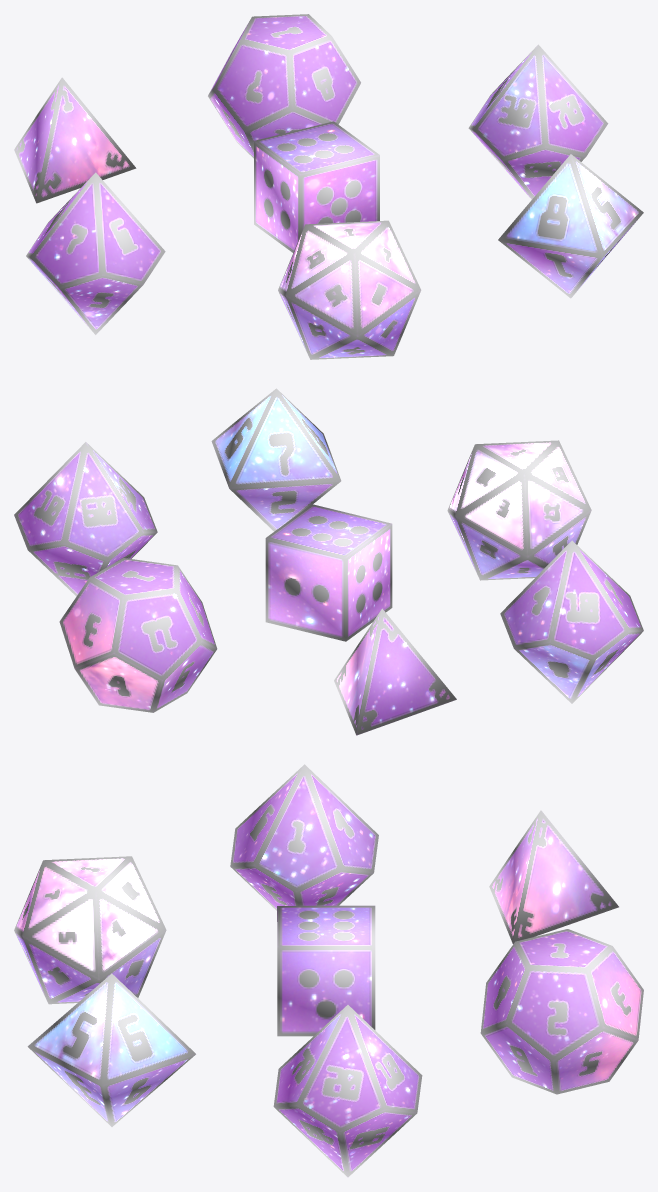
Rendered from uploads_files_5327801_SpaceALL.fbx.
3 renders of one model, top to bottom at view 1: azimuth 30°, elevation 25°; view 2: azimuth 150°, elevation 25°; view 3: azimuth 270°, elevation 25°, orthographic. The views are drawn at different scales.
Parts seen in each view (by area): view 1: LowPoly; view 2: LowPoly; view 3: LowPoly.
Boxes of the visible parts, <box> form: LowPoly: <box>14,14,643,359</box>; LowPoly: <box>14,388,643,735</box>; LowPoly: <box>14,764,643,1177</box>.
Bounding box in the file's own units: 847 × 225 × 741.
